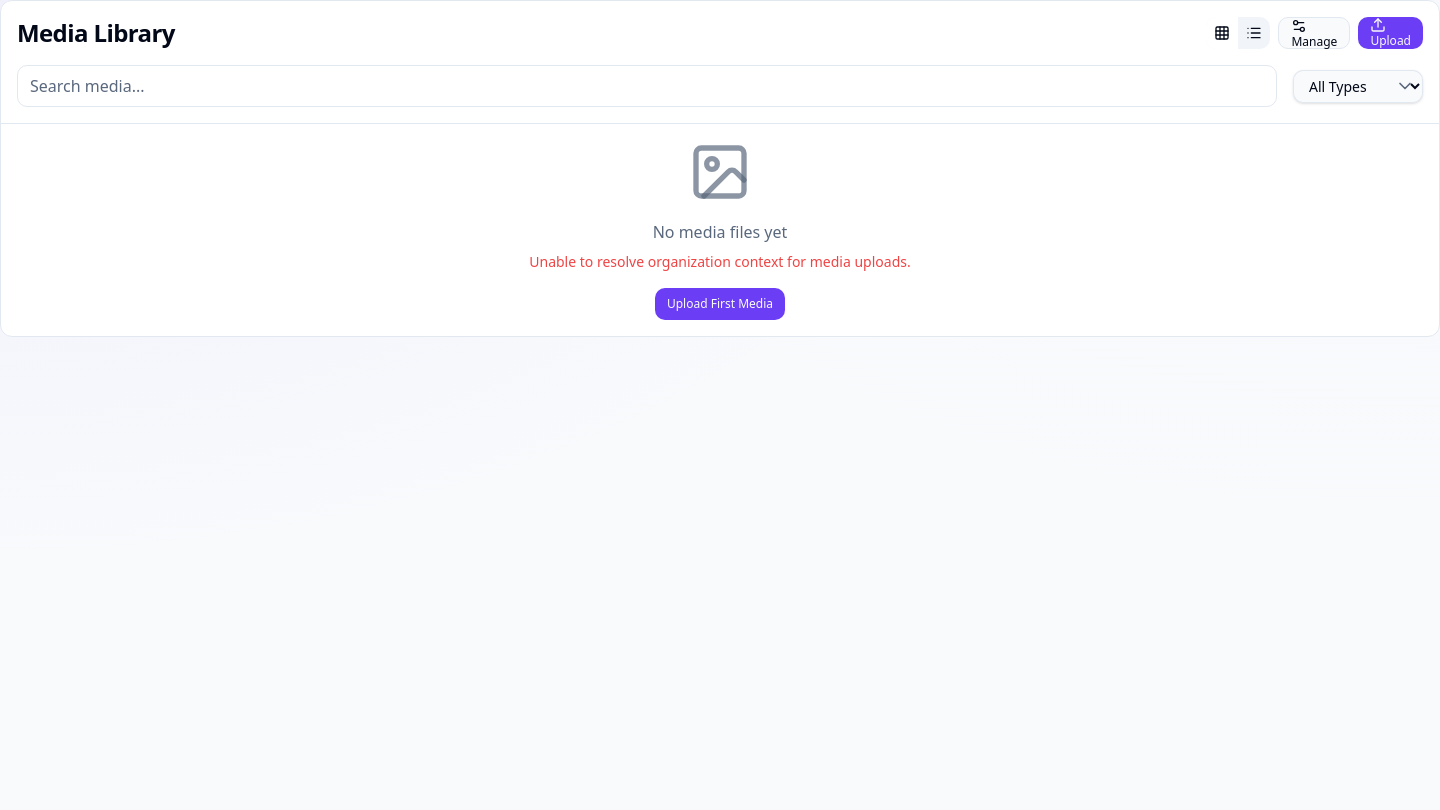
MediaManager empty-state upload CTA › reveals the upload area and clicks the file input when the CTA is pressed
Click the button "Upload First Media" at [720, 304], box x1=655 y1=288 x2=785 y2=320
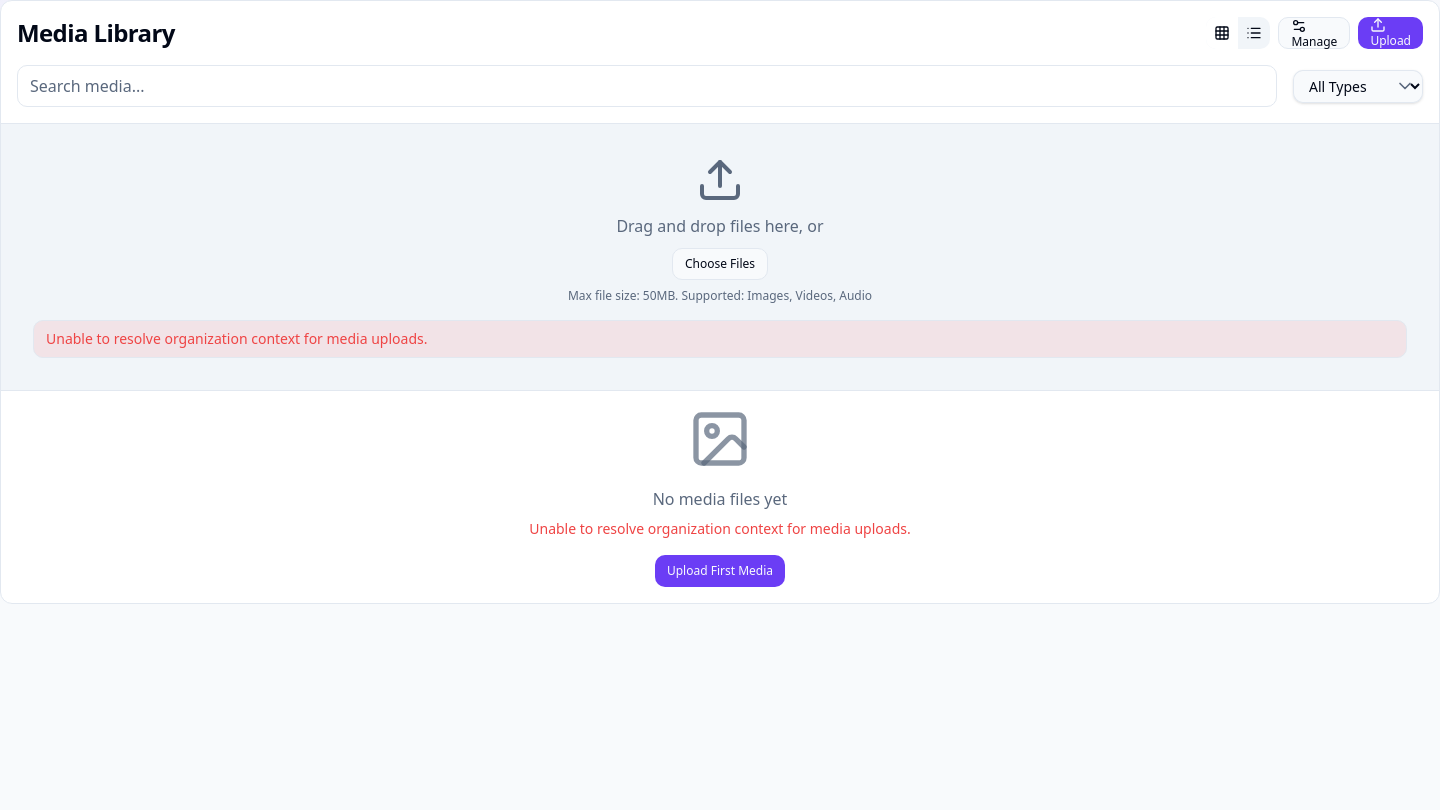
Expected: the element that starts with "Drag and drop files here, or" is shown, x1=568 y1=156 x2=872 y2=304
